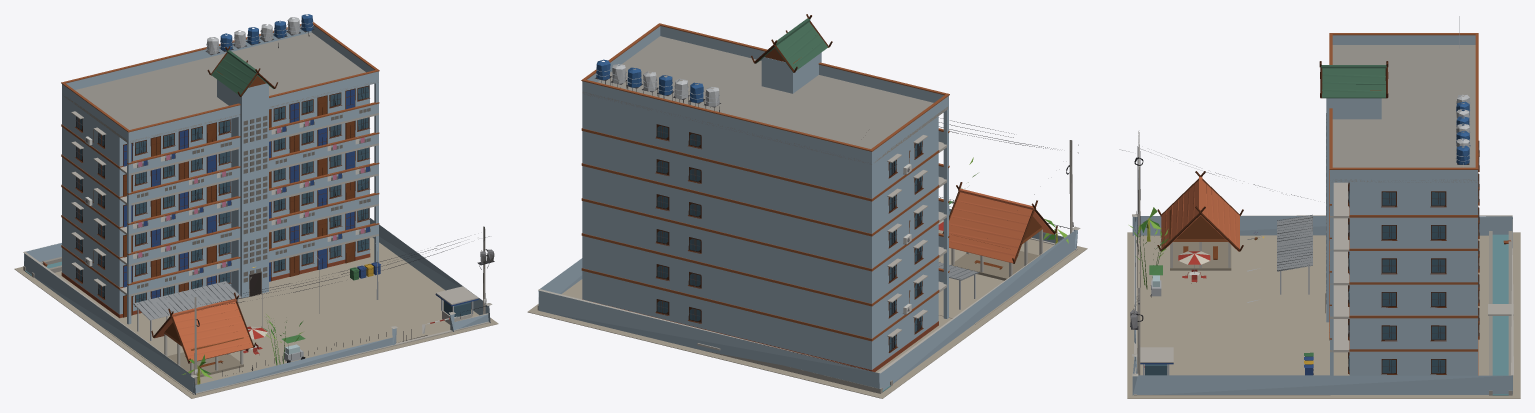
The model's file is home_5.glb.
3 views of the same model, side by side, from view 1: azimuth 30°, elevation 25°; view 2: azimuth 150°, elevation 25°; view 3: azimuth 270°, elevation 25° (orthographic). The views are drawn at different scales.
Parts seen in each view (by area): view 1: body, windows; view 2: body, windows; view 3: body, windows.
Part boxes in pixels (x1=…): body: x1=14, y1=14, x2=498, y2=398; windows: x1=76, y1=86, x2=470, y2=317; body: x1=527, y1=14, x2=1087, y2=398; windows: x1=657, y1=126, x2=922, y2=350; body: x1=1119, y1=16, x2=1520, y2=398; windows: x1=1145, y1=173, x2=1478, y2=375.
Bounding box in the file's own units: 31.9 × 22.92 × 32.78.
